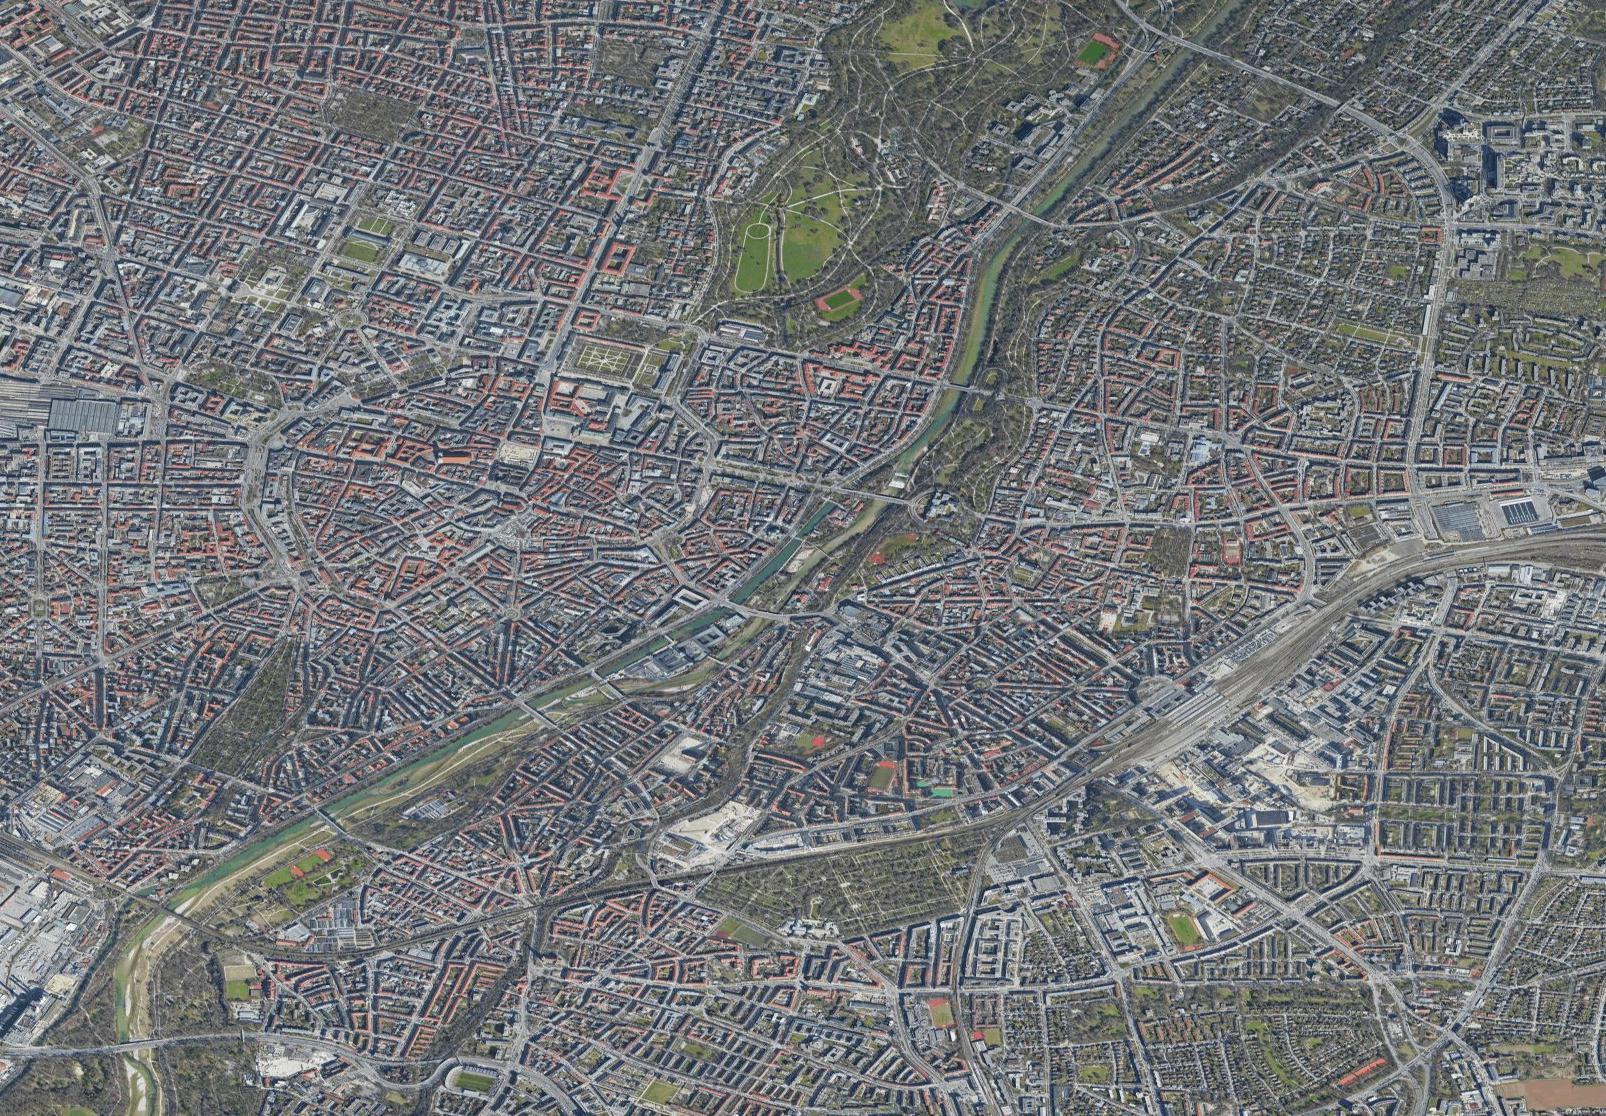bridge: (104, 1033, 165, 1057), (150, 900, 188, 922), (513, 696, 550, 718), (304, 800, 342, 822), (714, 593, 744, 617), (1178, 35, 1208, 59), (942, 375, 971, 398), (1015, 204, 1045, 227), (585, 664, 611, 684)
train_station: (1135, 680, 1239, 744)
